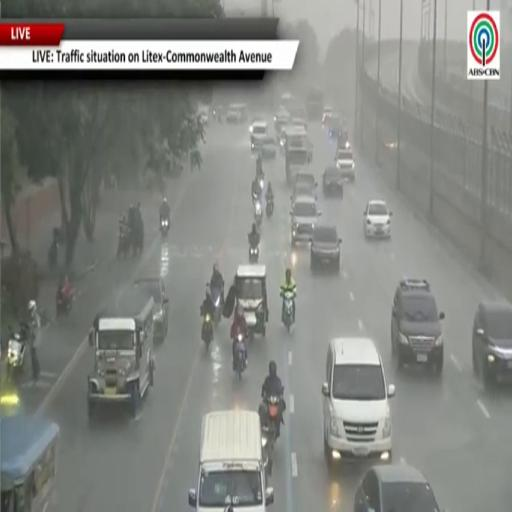car: (322, 338, 395, 466), (391, 279, 444, 374), (354, 464, 441, 511), (472, 301, 511, 387), (134, 278, 169, 342), (291, 196, 321, 246), (310, 226, 341, 271), (364, 200, 392, 237), (291, 173, 317, 203), (335, 149, 355, 182), (323, 167, 343, 198), (291, 183, 317, 206), (274, 109, 290, 141), (250, 121, 267, 151), (256, 135, 276, 159), (226, 104, 247, 123), (325, 112, 341, 131), (295, 173, 316, 187), (337, 128, 350, 150), (329, 121, 344, 140), (250, 120, 267, 136), (289, 118, 307, 130), (198, 106, 209, 125), (322, 106, 333, 124)
jeepney: (87, 288, 154, 418), (0, 413, 59, 511), (236, 265, 267, 339), (285, 127, 312, 183)
motorcycle: (260, 396, 281, 459), (6, 328, 28, 379), (262, 424, 273, 476), (235, 333, 247, 379), (282, 292, 294, 332), (56, 291, 74, 316), (201, 313, 213, 348), (212, 288, 223, 326), (117, 229, 131, 258), (48, 238, 58, 269), (255, 201, 262, 227), (249, 246, 258, 264), (161, 218, 169, 236), (266, 198, 273, 217), (259, 178, 264, 193)
